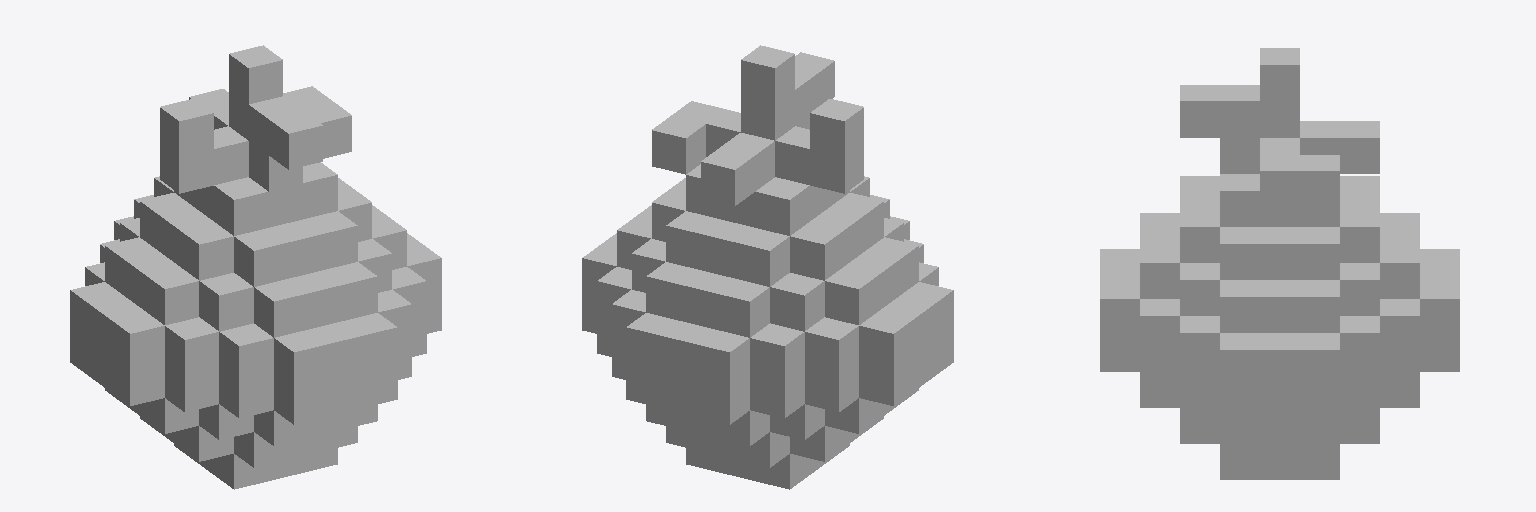
Rendered from Tomato.obj.
The picture shows the model from 3 angles: view 1: azimuth 30°, elevation 25°; view 2: azimuth 150°, elevation 25°; view 3: azimuth 270°, elevation 25°; orthographic projection.
Size of the model in its own units: 9 by 11 by 9.